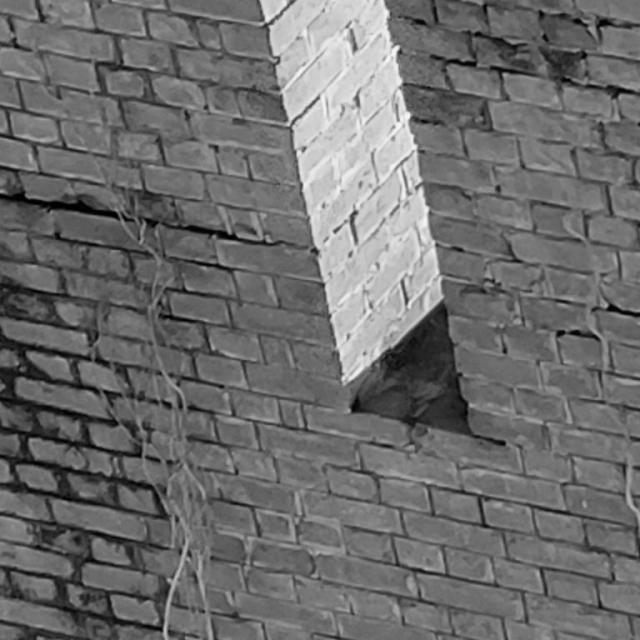crack: (1, 191, 282, 247)
